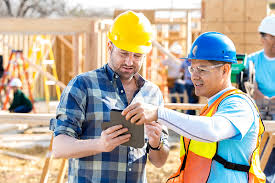hard hat: (109, 10, 154, 53), (179, 31, 238, 63), (258, 15, 275, 36), (8, 78, 23, 86)
high-vis: (180, 89, 267, 183)
